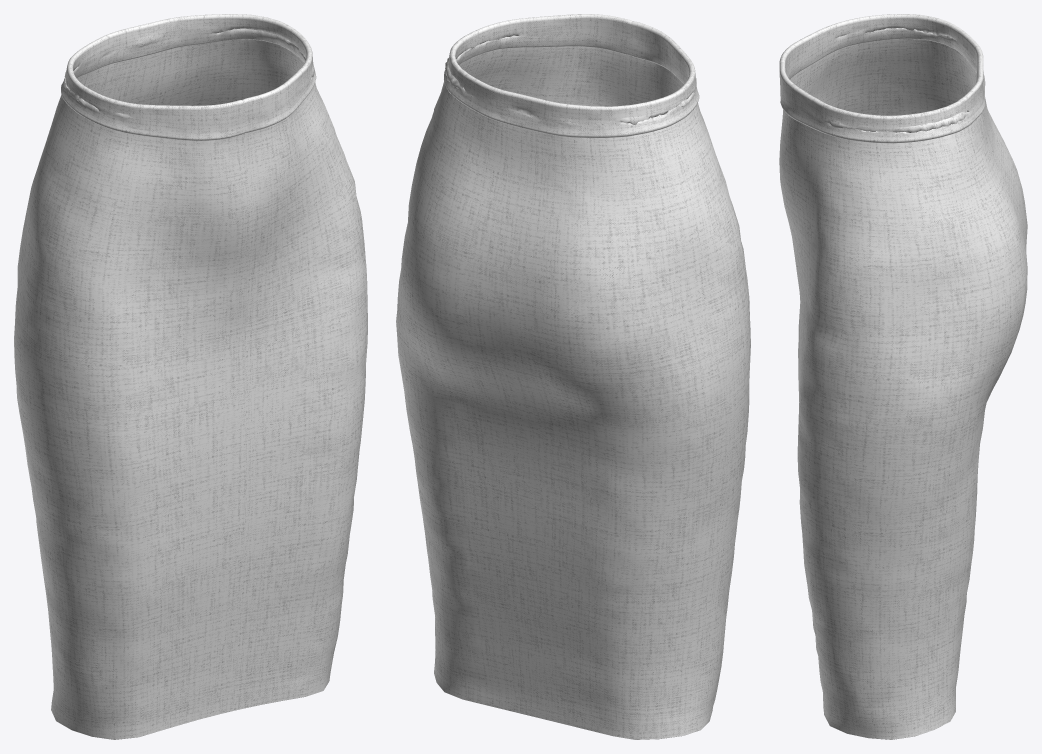
The model's file is pencil.obj.
The picture shows the model from 3 angles, left to right: view 1: azimuth 30°, elevation 25°; view 2: azimuth 150°, elevation 25°; view 3: azimuth 270°, elevation 25°; orthographic projection. The views are drawn at different scales.
Bounding box in the file's own units: 341 × 639 × 234.
1 material, 1 textured.
